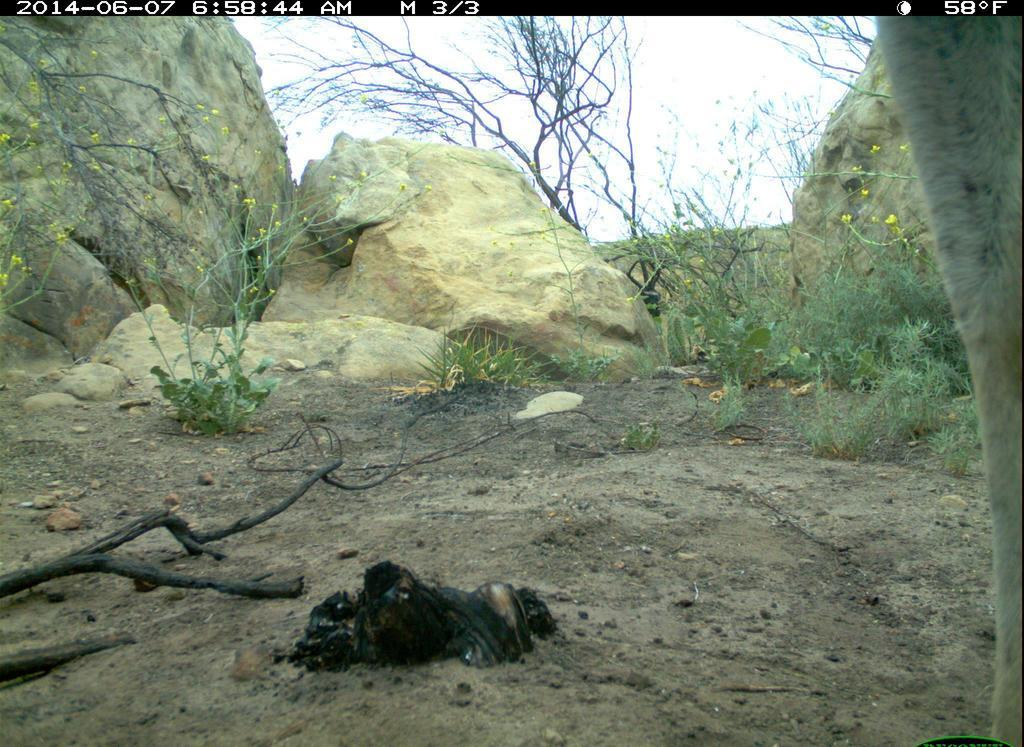deer: (871, 15, 1019, 747)
